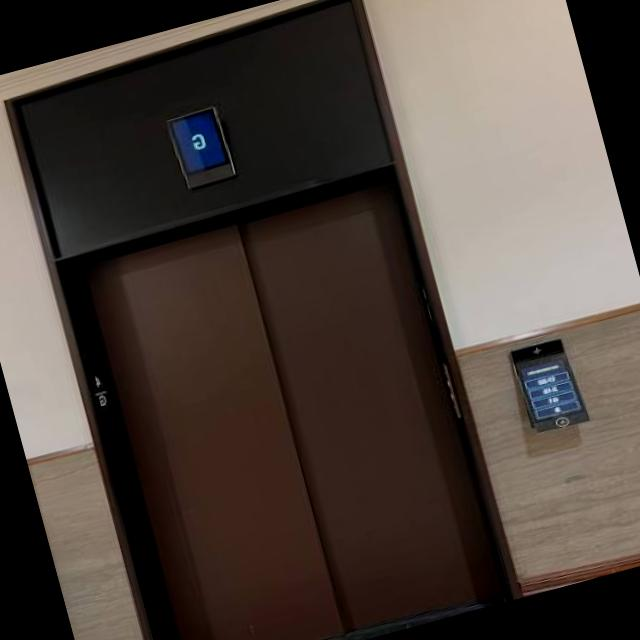elevator: (0, 13, 635, 640)
